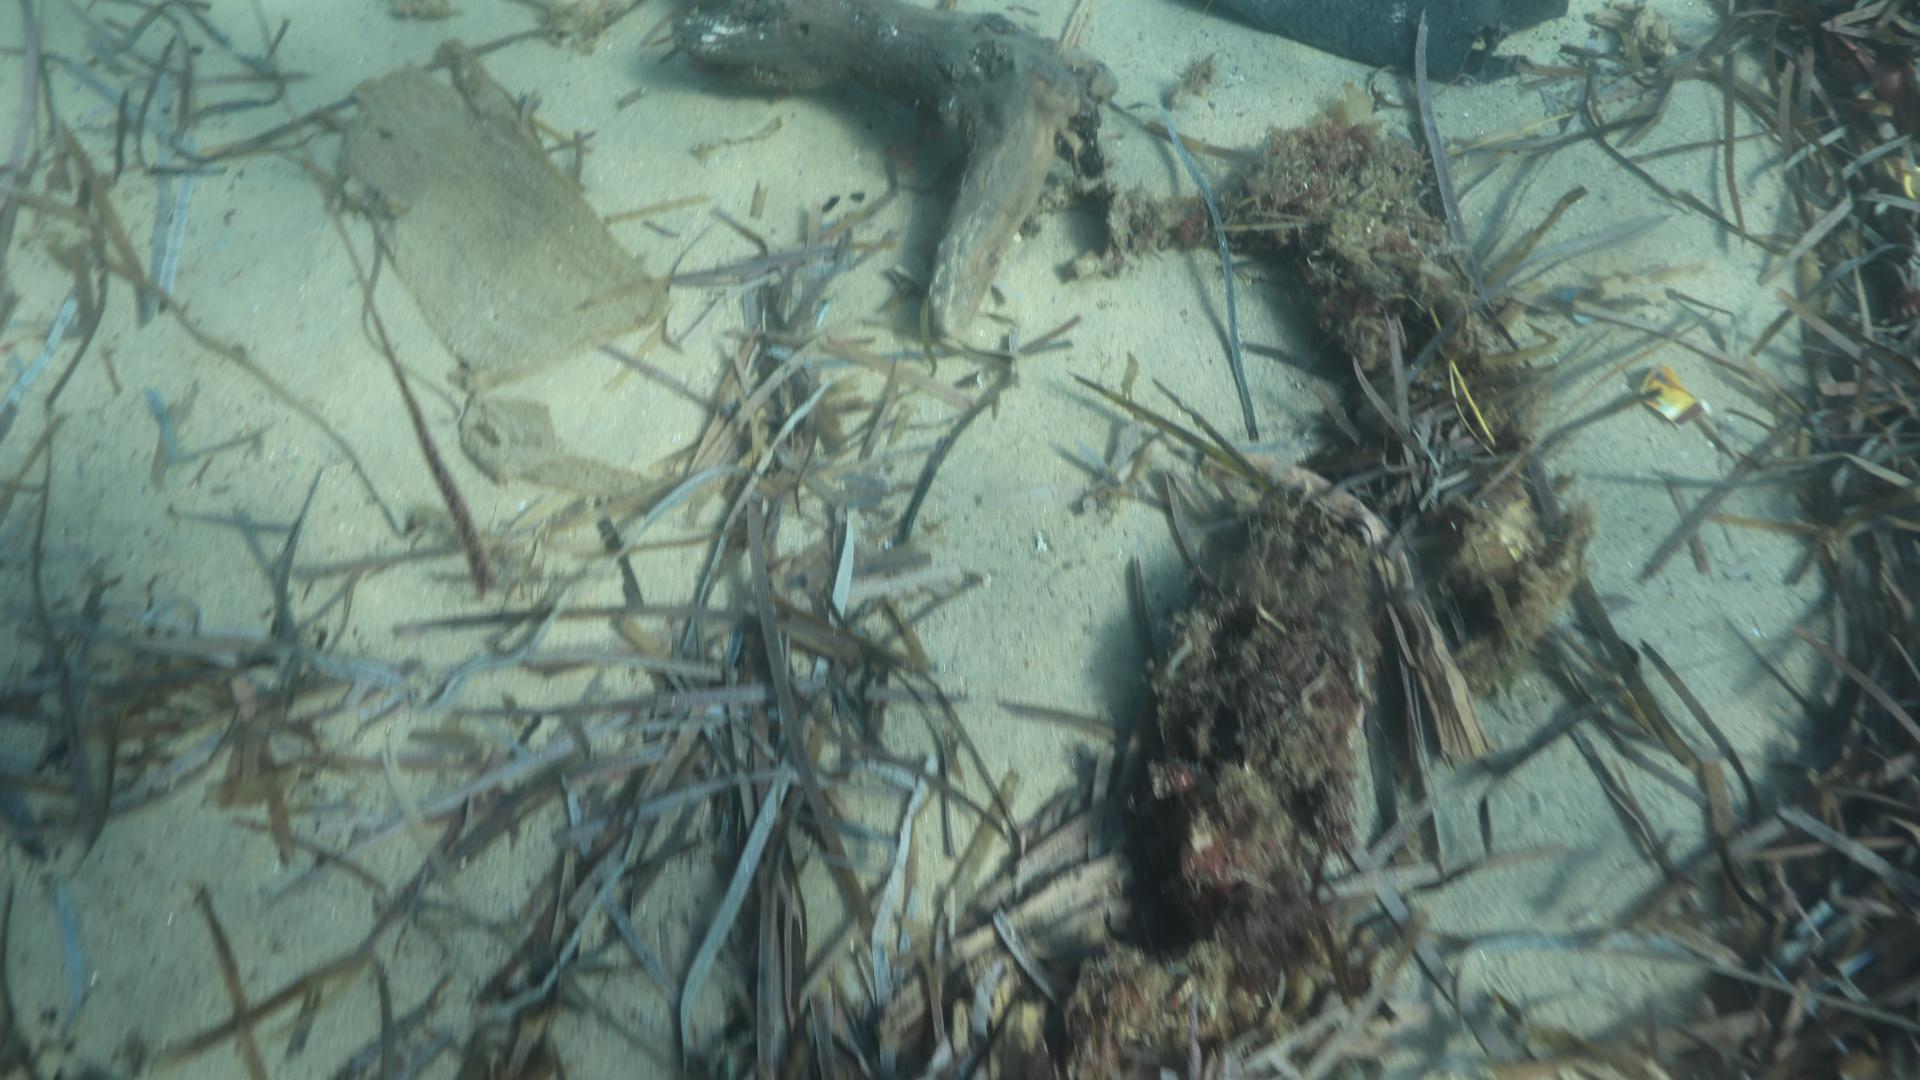wood: (670, 0, 1120, 345), (338, 37, 666, 373)
